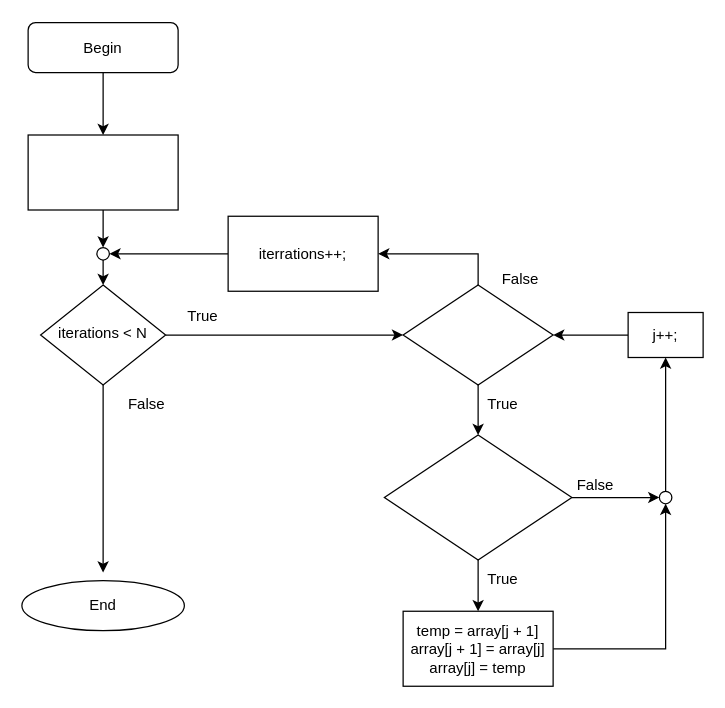
Image size: 725x708. Some labels were removed from this diagram. Here are the shapes that lost their labels. From the top down, the box of each, then its label:
(27, 134, 178, 210): iterations = 1; j = 0;
(402, 284, 553, 385): j < N - 2
(383, 434, 572, 560): array[j] > array[j+1]
